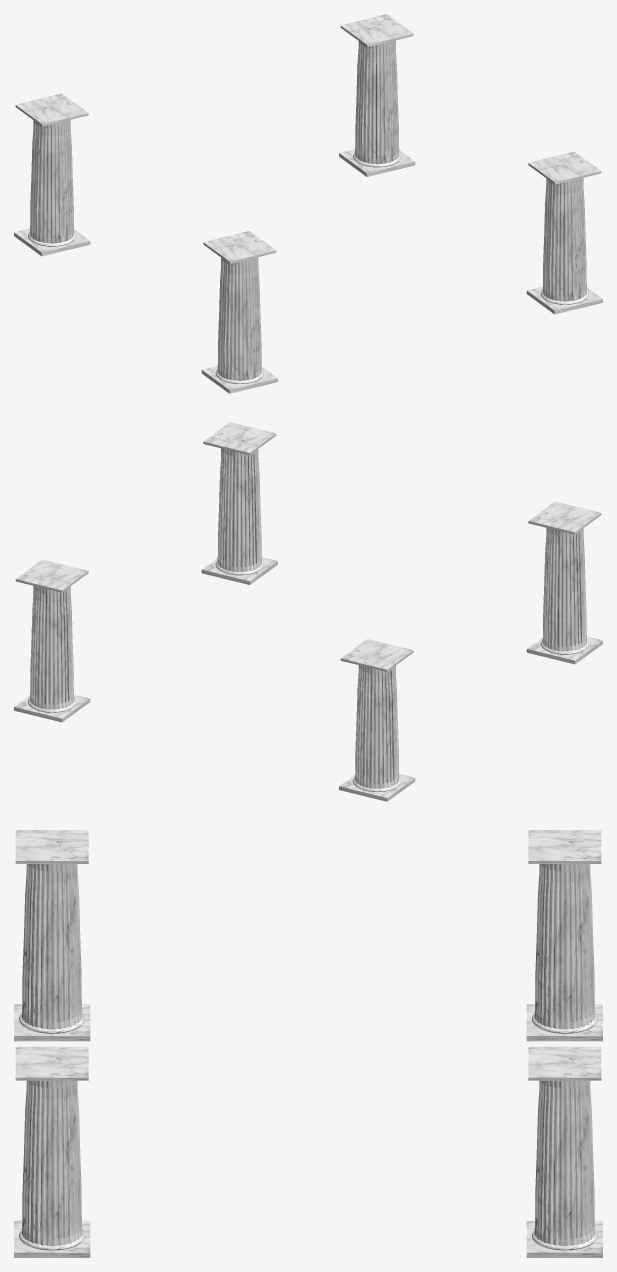
File: column.glb
The picture shows the model from 3 angles, top to bottom: view 1: azimuth 30°, elevation 25°; view 2: azimuth 150°, elevation 25°; view 3: azimuth 270°, elevation 25°; orthographic projection. The views are drawn at different scales.
Visible parts, largest first — view 1: Greek column, Greek column.003, Greek column.001, Greek column.002; view 2: Greek column.001, Greek column, Greek column.002, Greek column.003; view 3: Greek column, Greek column.001, Greek column.003, Greek column.002.
Boxes of the visible parts, box(x1,y1,x2,y2) form: Greek column: box(526, 151, 602, 314); Greek column.003: box(14, 93, 90, 256); Greek column.001: box(339, 14, 415, 176); Greek column.002: box(201, 231, 277, 393); Greek column.001: box(14, 559, 90, 722); Greek column: box(201, 422, 277, 584); Greek column.002: box(526, 501, 602, 664); Greek column.003: box(339, 639, 415, 801); Greek column: box(14, 1046, 90, 1257); Greek column.001: box(526, 1046, 602, 1257); Greek column.003: box(526, 830, 602, 1041); Greek column.002: box(14, 830, 90, 1041).
Bounding box in the file's own units: 2.3 × 0.7727 × 2.3.
Materials: 1 (1 with a texture image).
